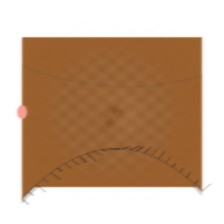pinguecula_lesion: (36, 105, 67, 130)
